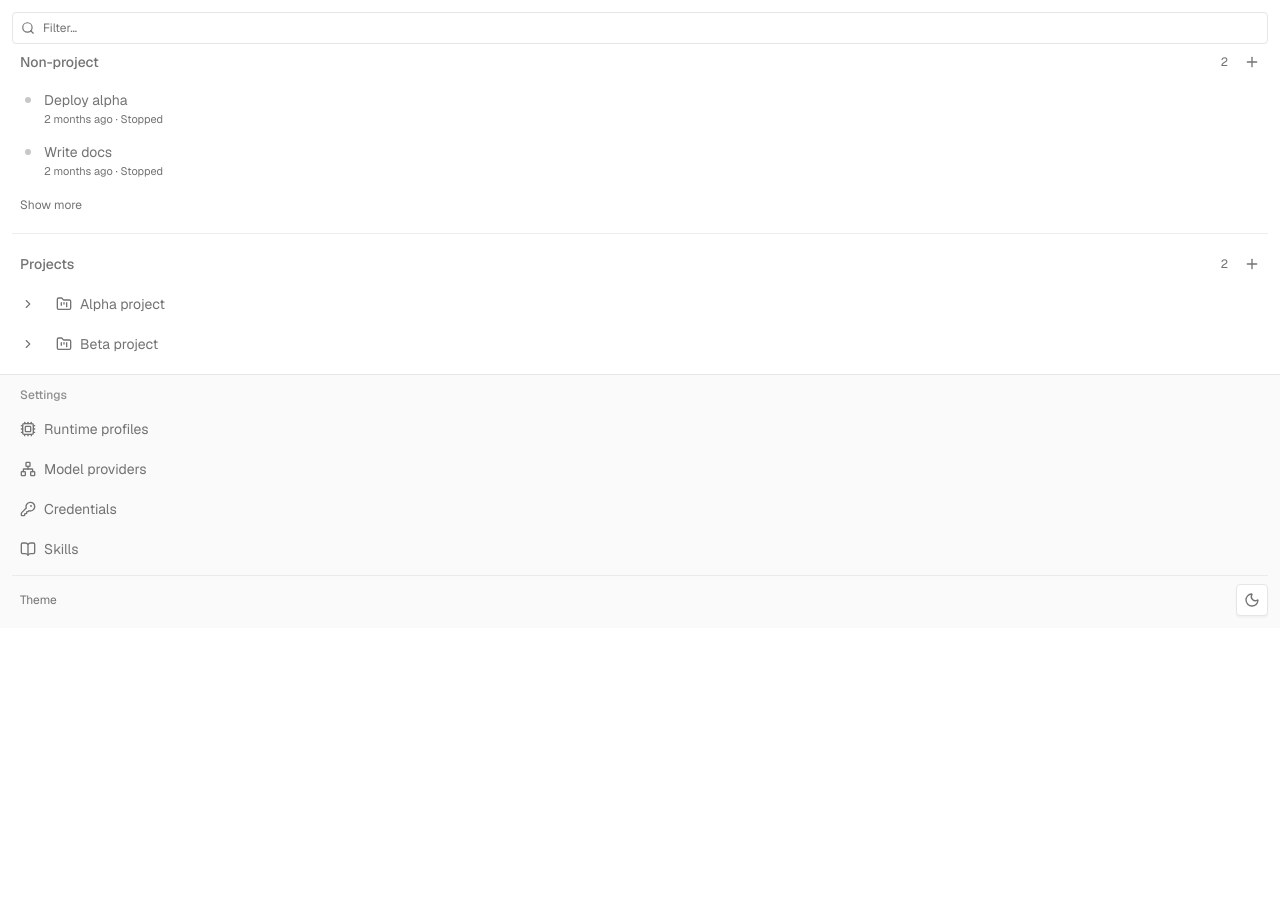
Test: WorkspaceSidebar › filters sessions and projects by name with the sidebar search box
Expected: the link with aria-label "deploy alpha session conversation" is shown, [19,90,163,126]
Expected: the link with aria-label "write docs session conversation" is shown, [19,142,163,178]
Note: Case-insensitive match across both Sessions and Projects.
In the search field named "filter sessions and projects": (651, 28) [43,20,1259,36], type "ALPHA"
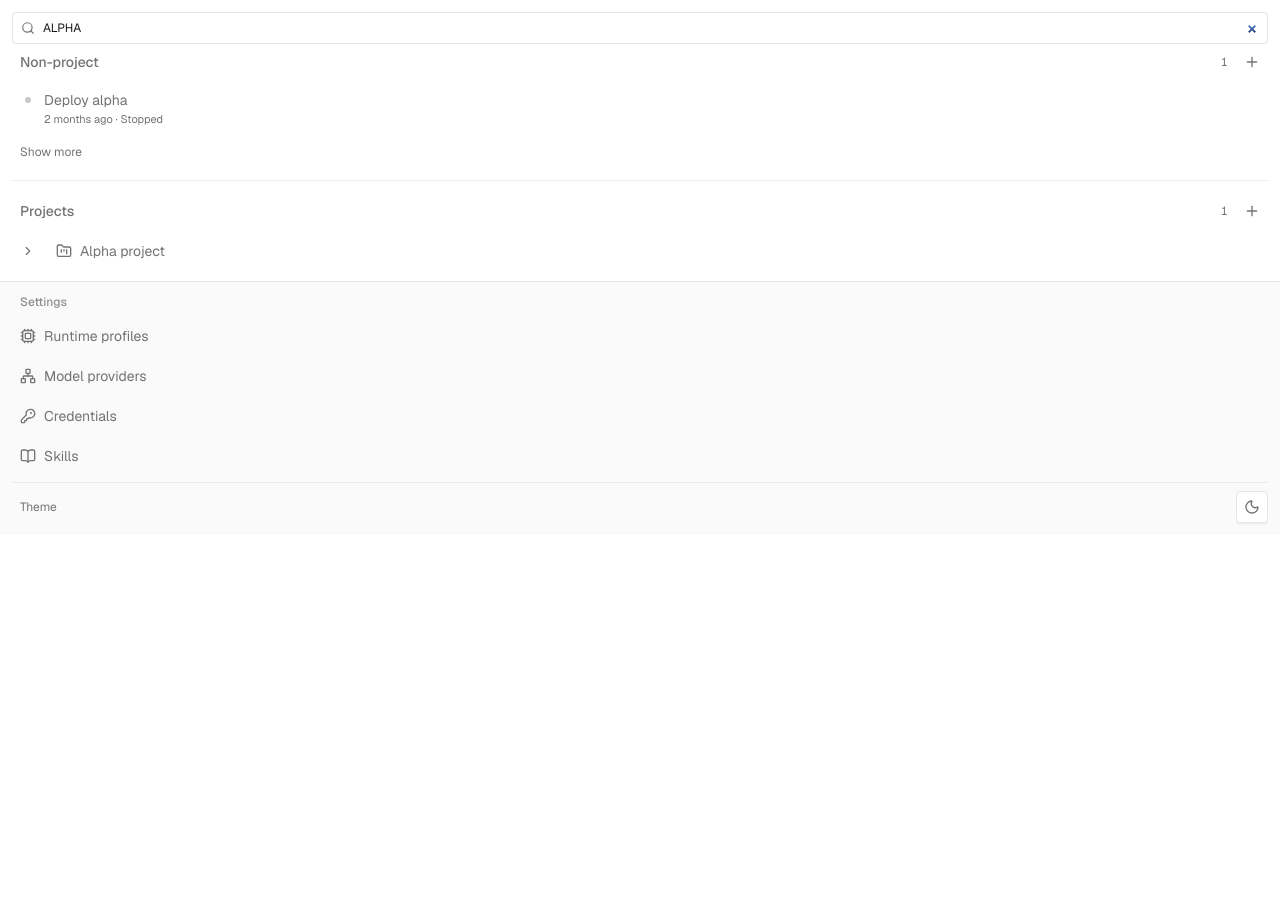
Expected: the link with aria-label "deploy alpha session conversation" is shown, [19,90,163,126]
Expected: the link with aria-label "alpha project project dashboard" is shown, [55,242,171,270]
Note: A query with no matches keeps both groups mounted with an explicit status.
Replace the text in the search field named "filter sessions and projects" with "zzz": (651, 28) [43,20,1259,36]
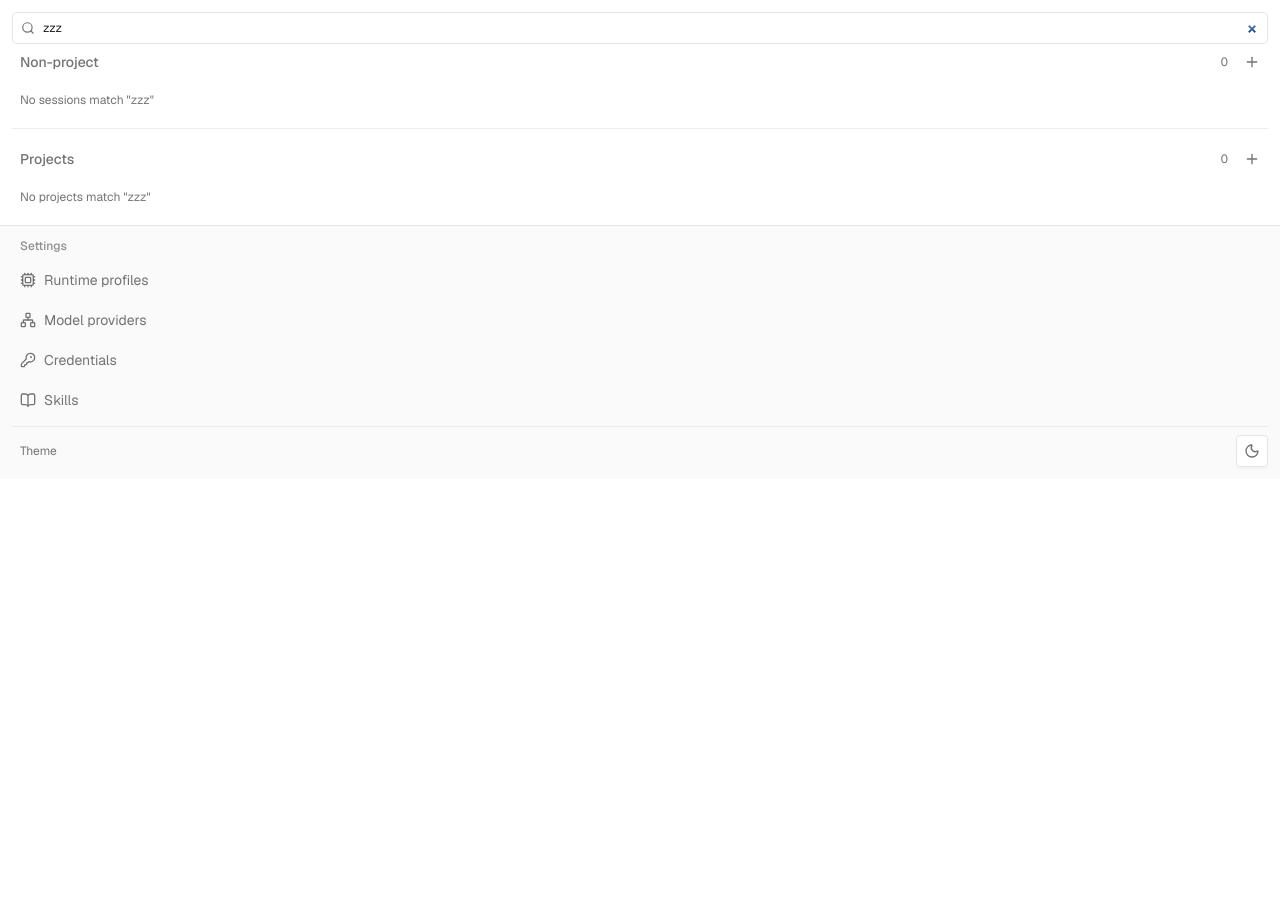
Now the text "No sessions match \"zzz\"" is shown, box [20,92,154,108]
Now the text "No projects match \"zzz\"" is shown, box [20,189,151,205]
